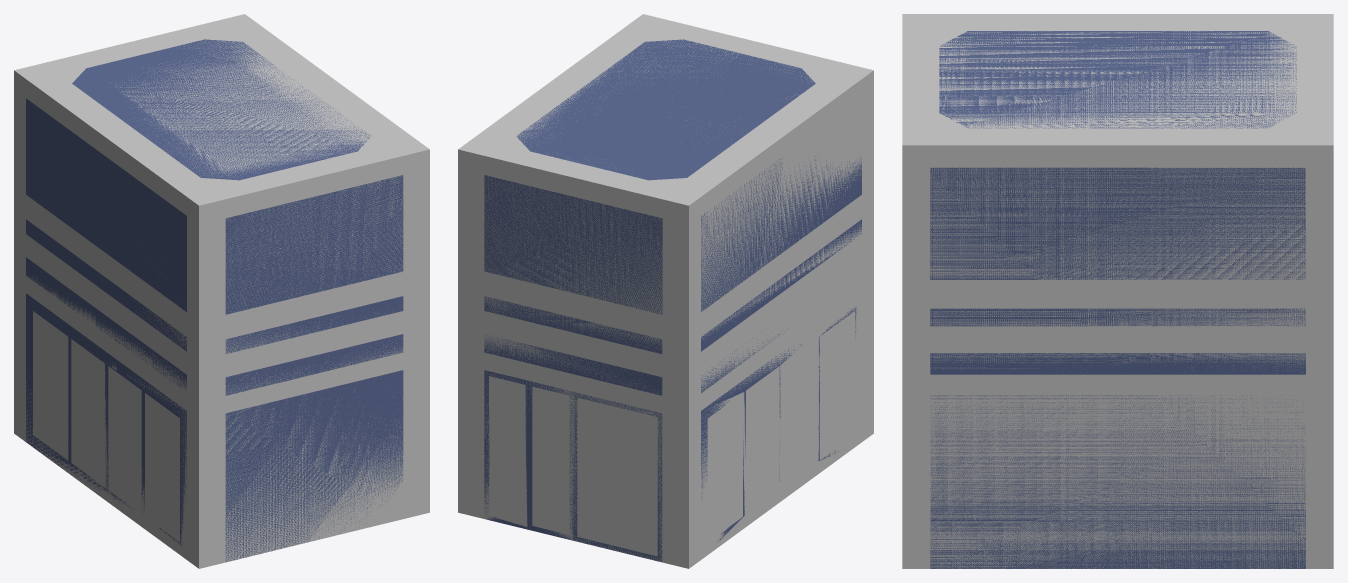
File: SM_Building_16_Base.fbx
3 views of the same model, side by side, from view 1: azimuth 30°, elevation 25°; view 2: azimuth 150°, elevation 25°; view 3: azimuth 270°, elevation 25° (orthographic). The views are drawn at different scales.
Parts seen in each view (by area): view 1: SM_Building_16_Base_ConvexHulls, SM_Building_16_Base; view 2: SM_Building_16_Base_ConvexHulls, SM_Building_16_Base; view 3: SM_Building_16_Base_ConvexHulls, SM_Building_16_Base.
Part boxes in pixels (x1=…): SM_Building_16_Base_ConvexHulls: x1=14, y1=14, x2=429, y2=568; SM_Building_16_Base: x1=26, y1=39, x2=403, y2=561; SM_Building_16_Base_ConvexHulls: x1=458, y1=14, x2=873, y2=568; SM_Building_16_Base: x1=484, y1=39, x2=861, y2=561; SM_Building_16_Base_ConvexHulls: x1=902, y1=14, x2=1333, y2=568; SM_Building_16_Base: x1=930, y1=31, x2=1305, y2=568.
Size of the model in its own units: 732 by 1016 by 1100.
Materials: 2 (1 with a texture image).
